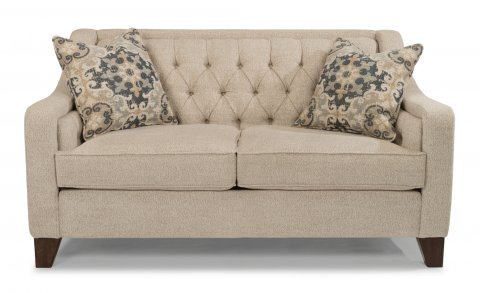chairs: (21, 26, 458, 270)
